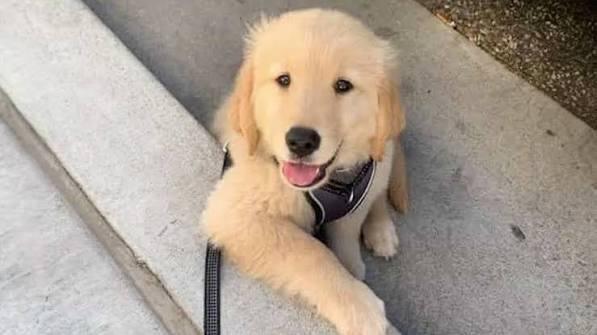puppy-dog: (200, 8, 410, 335)
